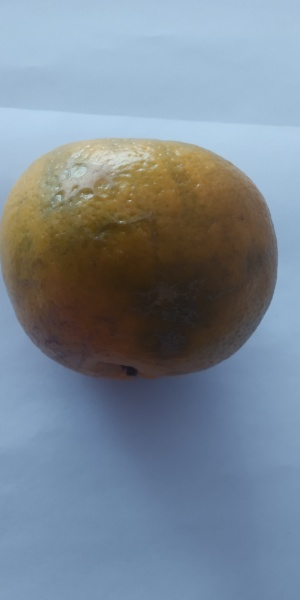BAD: (1, 124, 279, 380)
